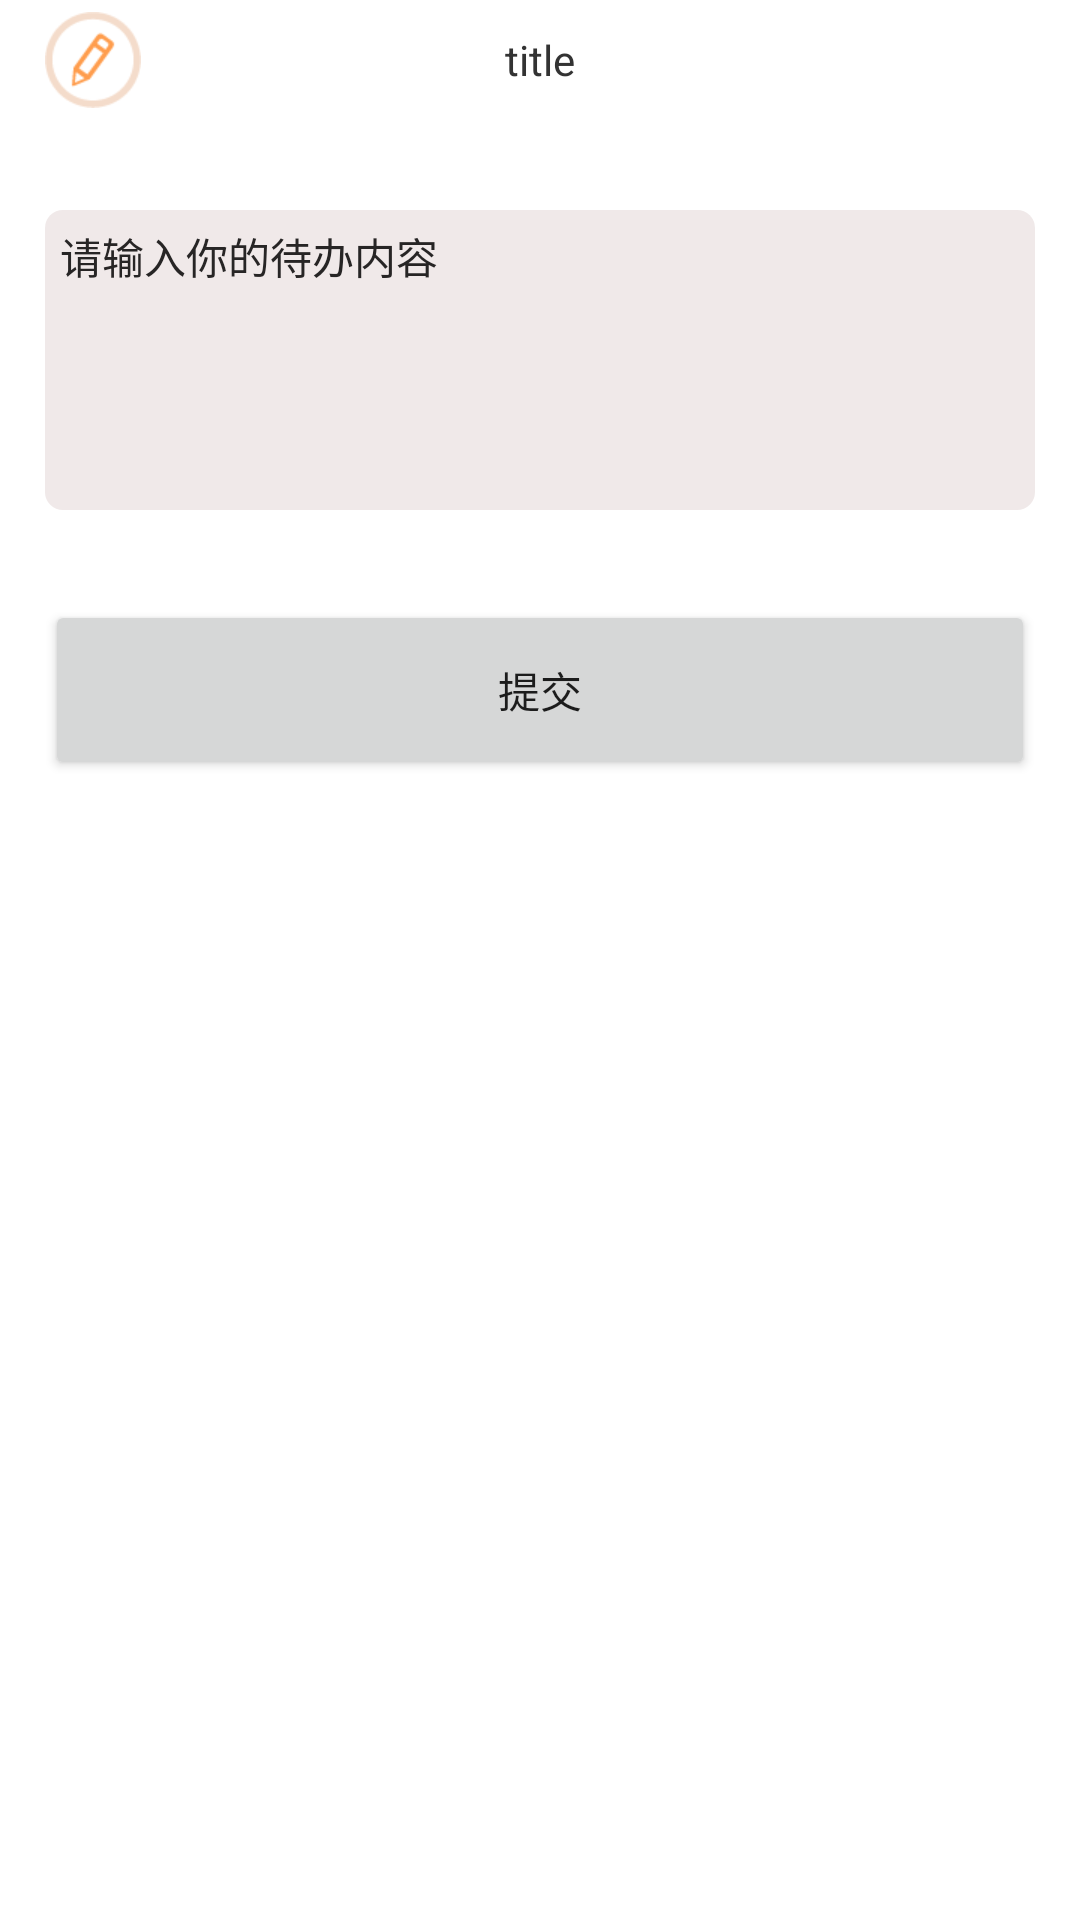

Where to tap for icons on this 1080×1920 app screen, as point (x, y):
pen: point (93, 60)
